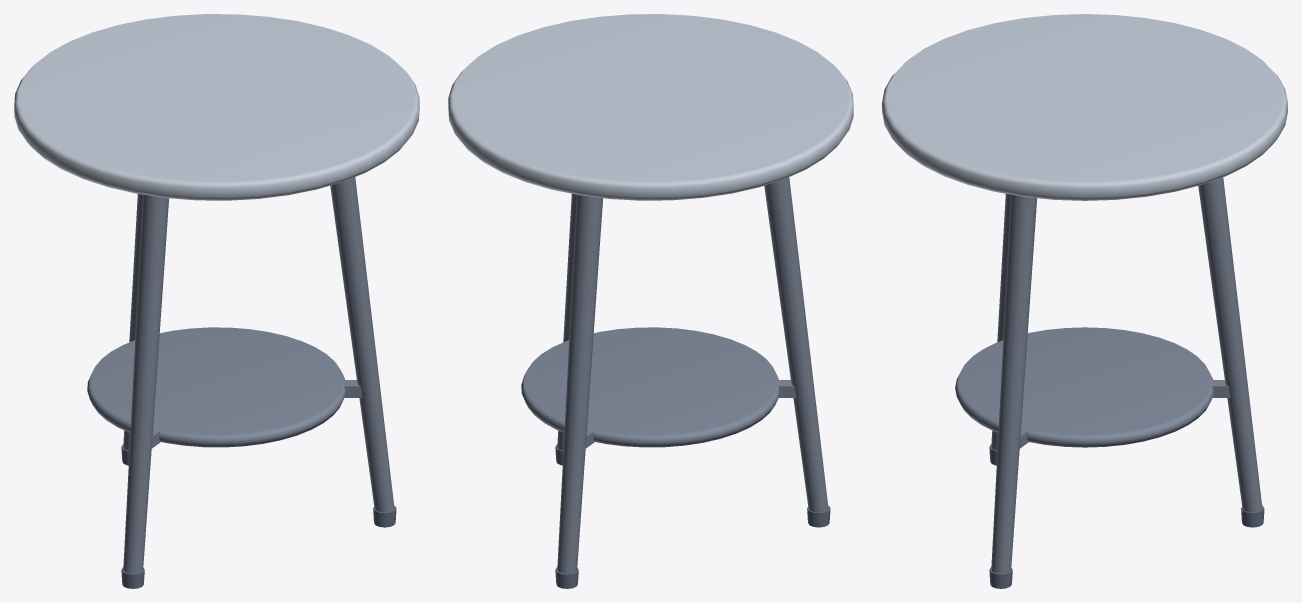
File: side-table-lite.glb
3 renders of one model, left to right at view 1: azimuth 30°, elevation 25°; view 2: azimuth 150°, elevation 25°; view 3: azimuth 270°, elevation 25°, orthographic.
Parts seen in each view (by area): view 1: side-table-top, side-table-frame, side-table-foot; view 2: side-table-top, side-table-frame, side-table-foot; view 3: side-table-top, side-table-frame, side-table-foot.
Boxes of the visible parts, x1,y1,x2,y2 form: side-table-top: (14, 14, 419, 200); side-table-frame: (87, 177, 394, 573); side-table-foot: (121, 444, 396, 588); side-table-top: (448, 14, 853, 200); side-table-frame: (521, 177, 828, 573); side-table-foot: (555, 444, 830, 588); side-table-top: (882, 14, 1287, 200); side-table-frame: (955, 177, 1262, 573); side-table-foot: (989, 444, 1264, 588).
Size of the model in its own units: 0.45 by 0.52 by 0.45.
